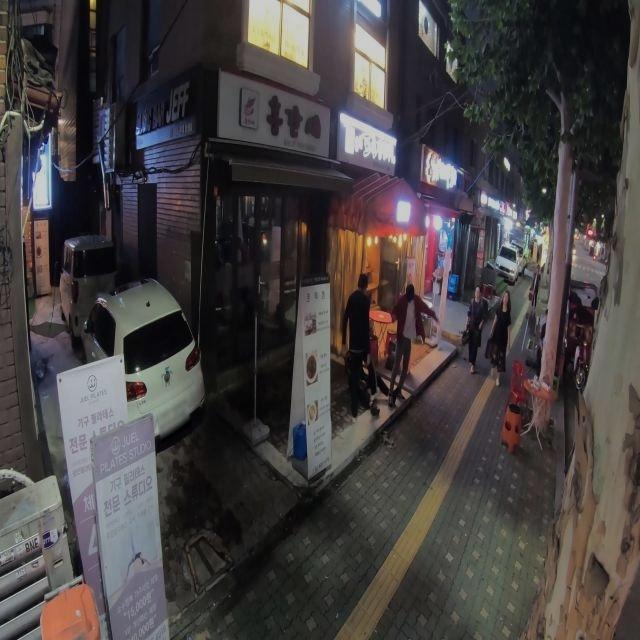non-fight: (340, 271, 380, 422), (388, 282, 421, 405), (487, 289, 512, 384), (463, 284, 486, 372)
